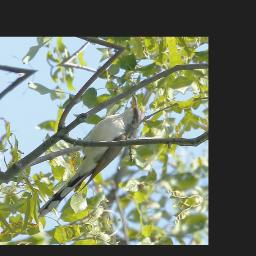Cuckoo: (15, 93, 160, 220)
